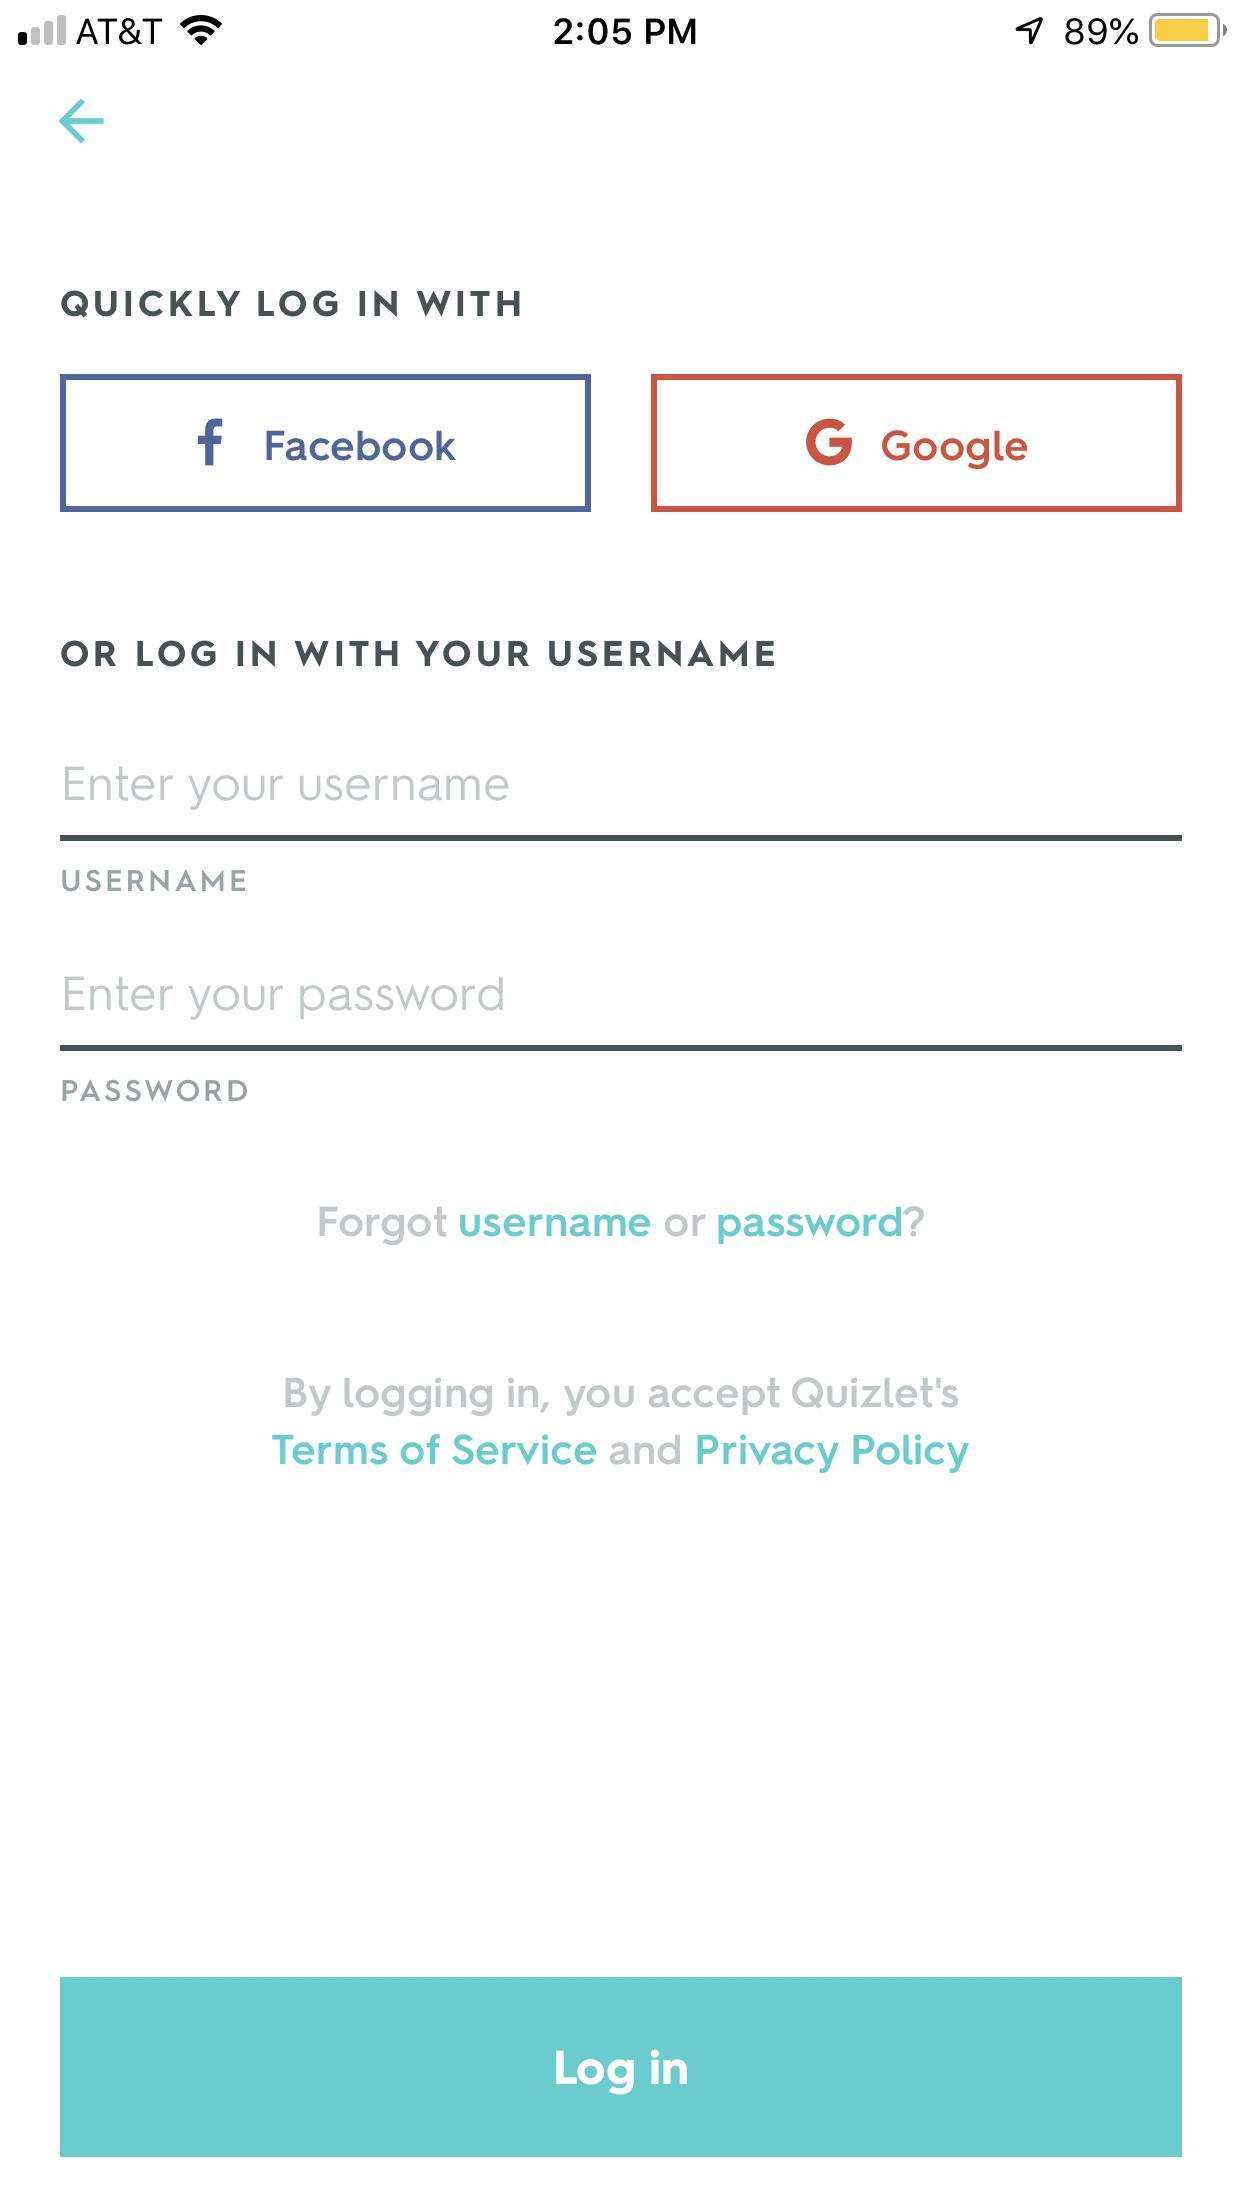EditText: (61, 975, 1183, 1052), (61, 764, 1183, 842)
Icon: (59, 99, 105, 144)
Text: (271, 1375, 971, 1474), (318, 1206, 925, 1247), (67, 764, 510, 811), (62, 640, 775, 667), (65, 977, 503, 1021), (61, 290, 522, 318), (62, 869, 246, 893), (62, 1080, 249, 1102)
TextButton: (61, 1976, 1181, 2156), (61, 375, 591, 514), (651, 375, 1183, 513)
UpperTaskBar: (2, 2, 1242, 49)
